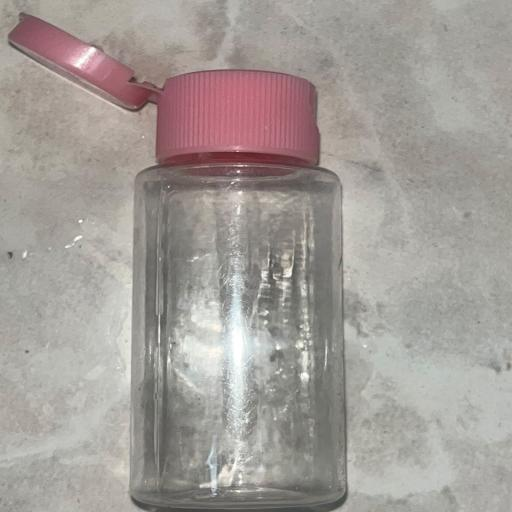PET: (10, 1, 484, 505)
